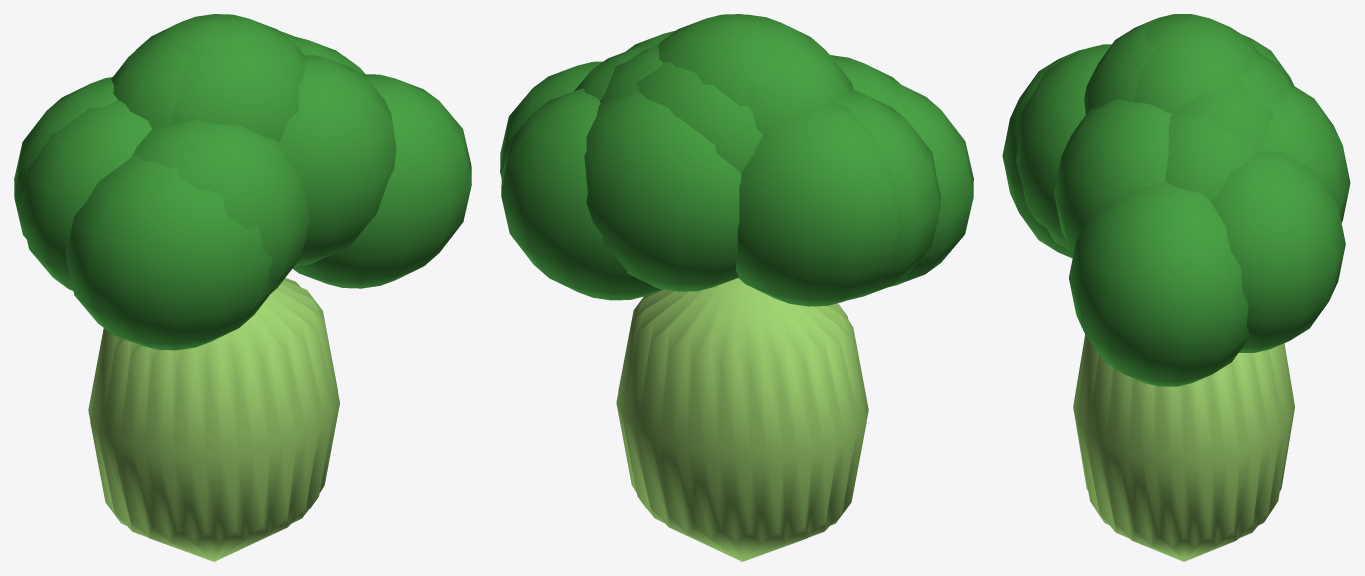
File: tb_mat_brokkoli.glb
The picture shows the model from 3 angles, left to right: view 1: azimuth 30°, elevation 25°; view 2: azimuth 150°, elevation 25°; view 3: azimuth 270°, elevation 25°; orthographic projection.
Parts seen in each view (by area): view 1: matkropp; view 2: matkropp; view 3: matkropp.
Part boxes in pixels (x1,y1,x2,y2): matkropp: (14, 14, 471, 561); matkropp: (500, 14, 973, 561); matkropp: (1002, 14, 1350, 561).
Bounding box in the file's own units: 0.6984 × 0.8493 × 0.4989.
